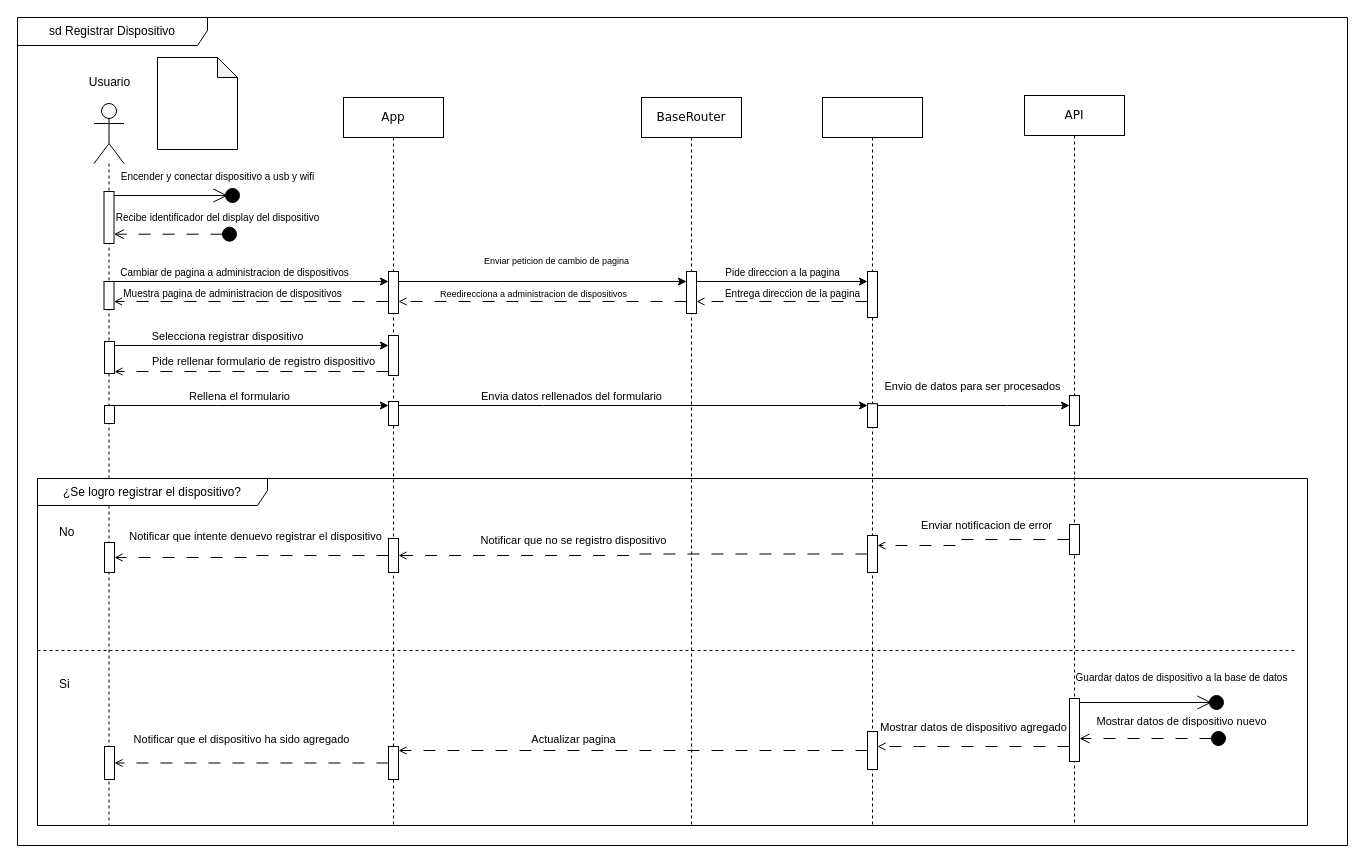
This 1365x863 diagram has some shape labels left out. Here are the shapes that lost their labels. From the top down, the centre of each, then its label:
pixel 197 103: Usuario ya inicio sesion
pixel 872 461: Dispositivos
